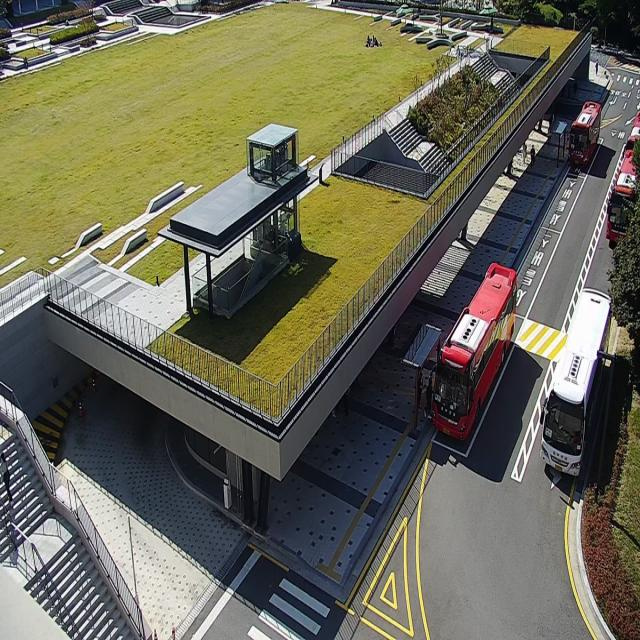queue: (415, 328, 441, 431)
